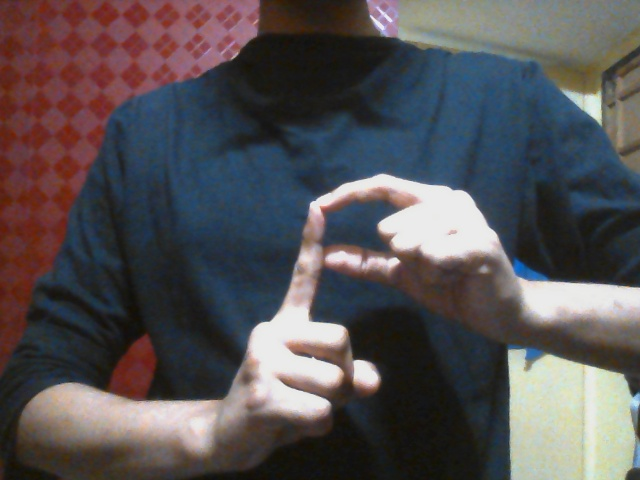P: (224, 171, 502, 452)
